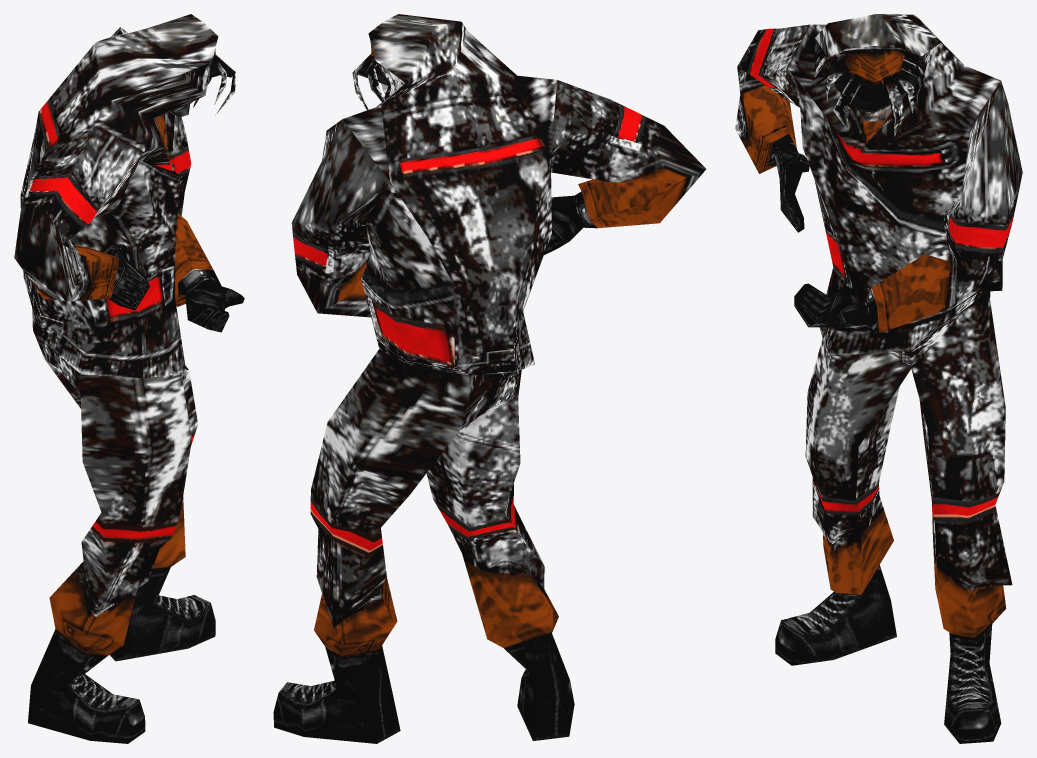
File: sniper.glb
3 renders of one model, left to right at view 1: azimuth 30°, elevation 25°; view 2: azimuth 150°, elevation 25°; view 3: azimuth 270°, elevation 25°, orthographic. The views are drawn at different scales.
Visible parts, largest first — view 1: sniper; view 2: sniper; view 3: sniper.
Boxes of the visible parts, x1,y1,x2,y2 form: sniper: (14, 14, 244, 743); sniper: (273, 14, 705, 743); sniper: (735, 14, 1022, 743).
Size of the model in its own units: 31.98 by 66.35 by 25.46.
Materials: 1 (1 with a texture image).
